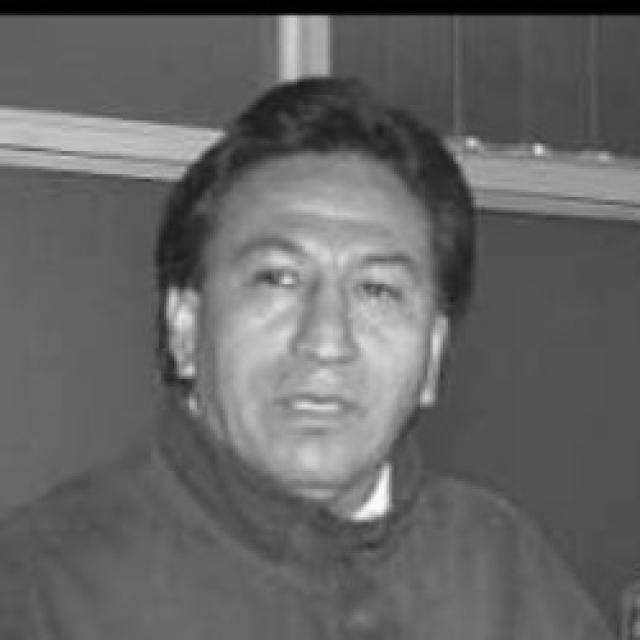real: (179, 142, 448, 496), (228, 249, 412, 315)
